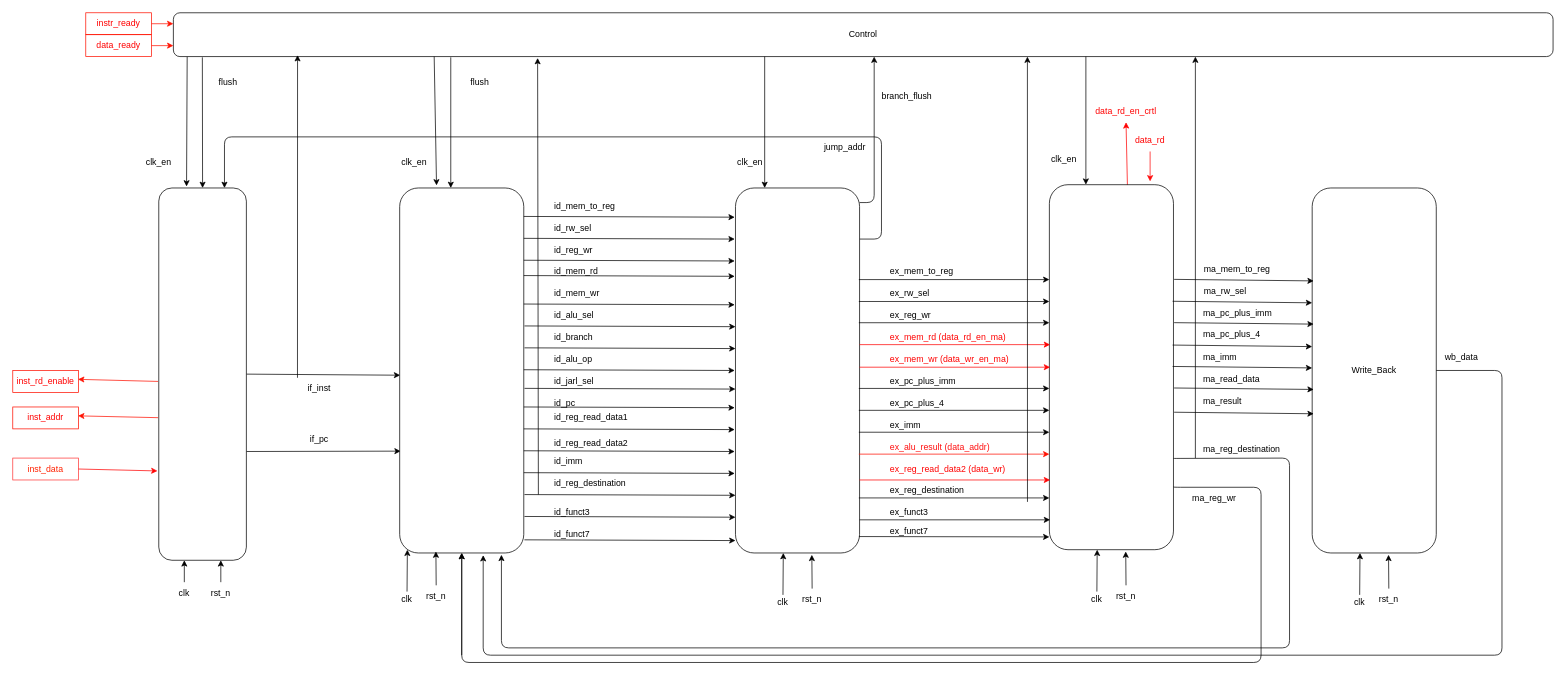
This 1566x681 diagram has some shape labels left out. Here are the shapes that lost their labels. From the top down, the centre of each, then its label:
the point at 202,373: Instruction_Fetch
the point at 461,370: Instruction_Decode
the point at 797,370: Execution
the point at 1111,367: Memory_Acess
